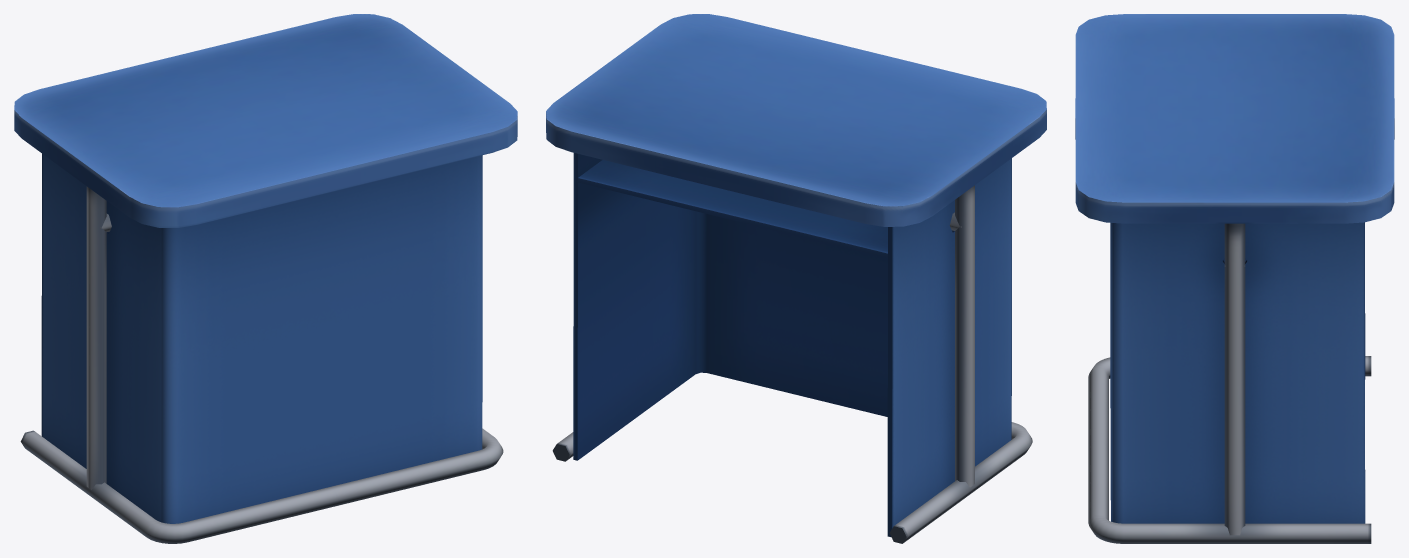
The model's file is AnimeChibi-SchoolPack2-Table.fbx.
3 renders of one model, left to right at view 1: azimuth 30°, elevation 25°; view 2: azimuth 150°, elevation 25°; view 3: azimuth 270°, elevation 25°, orthographic. The views are drawn at different scales.
Parts seen in each view (by area): view 1: table; view 2: table; view 3: table.
Part boxes in pixels (x1,y1,x2,y2): table: [14, 14, 517, 543]; table: [546, 14, 1046, 543]; table: [1075, 14, 1394, 543].
Bounding box in the file's own units: 17.5 × 15.11 × 12.5.
